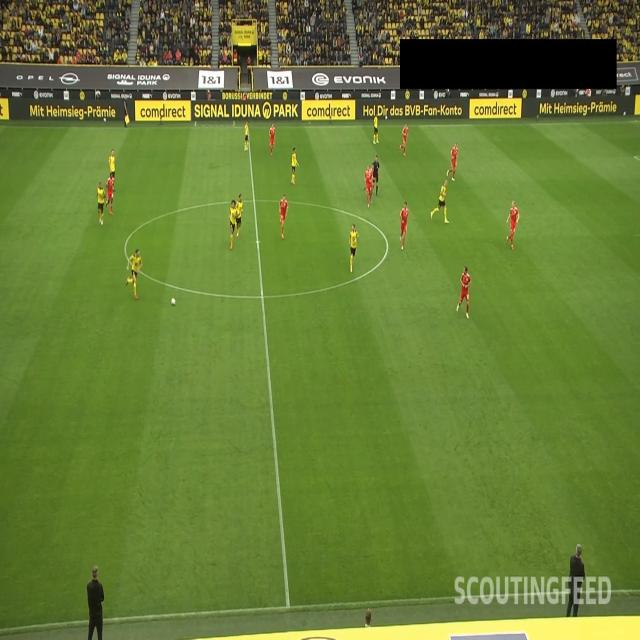ball: (170, 297, 177, 307)
